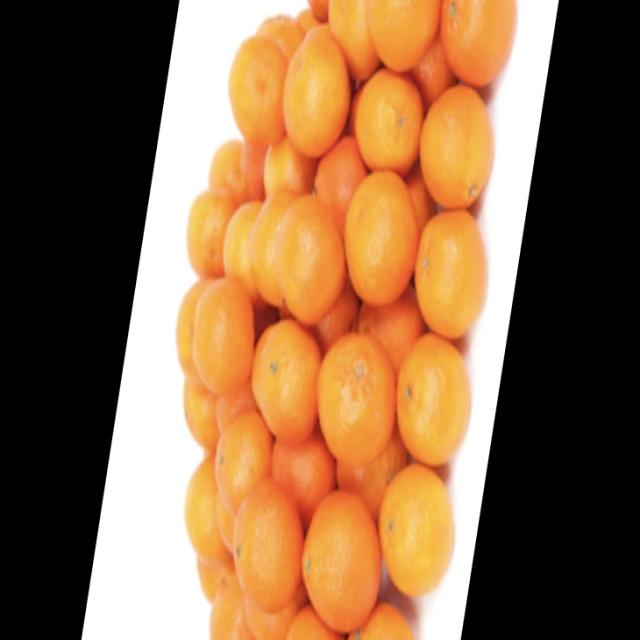orange: (362, 451, 463, 604), (296, 498, 389, 640), (408, 198, 493, 350), (409, 69, 496, 216), (223, 476, 309, 606), (344, 173, 426, 304), (308, 352, 396, 462), (241, 319, 318, 442), (397, 341, 474, 462), (343, 64, 428, 166), (190, 280, 264, 395), (277, 38, 352, 148), (220, 37, 290, 147), (441, 3, 520, 94), (211, 408, 279, 508), (278, 213, 342, 315), (361, 0, 444, 75), (172, 456, 230, 554), (211, 142, 265, 213), (189, 201, 237, 275)
